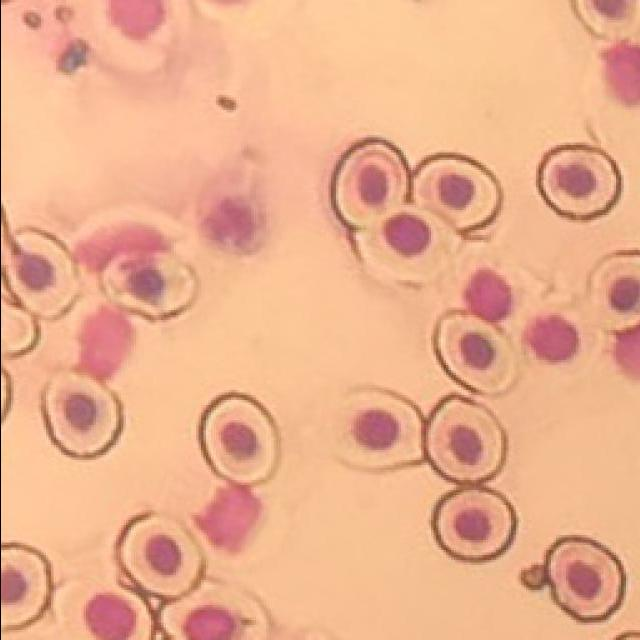RBC: (519, 536, 624, 622), (350, 204, 459, 284), (198, 392, 278, 485), (431, 310, 515, 395), (116, 515, 202, 598), (410, 154, 499, 234), (334, 390, 422, 470), (330, 139, 408, 229), (424, 395, 504, 482), (41, 371, 119, 459), (6, 229, 79, 319), (100, 252, 195, 321), (159, 580, 268, 640), (535, 145, 620, 220), (431, 489, 514, 562), (52, 581, 152, 640), (0, 544, 49, 631), (591, 251, 640, 330), (570, 0, 639, 40)
WBC: (71, 224, 168, 272), (192, 485, 258, 551), (76, 306, 131, 379), (462, 269, 511, 322), (524, 315, 577, 362), (601, 42, 640, 105), (106, 0, 162, 40), (611, 325, 640, 380)
